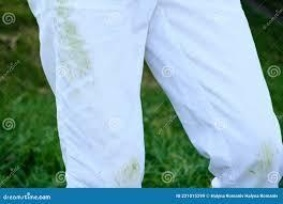earth: (60, 27, 90, 84), (118, 159, 140, 182), (254, 147, 273, 172), (57, 1, 73, 26)
